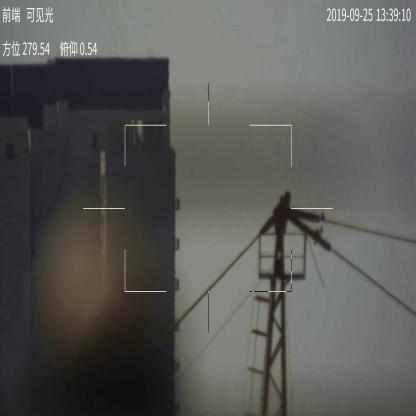uav: (310, 228, 327, 246)
